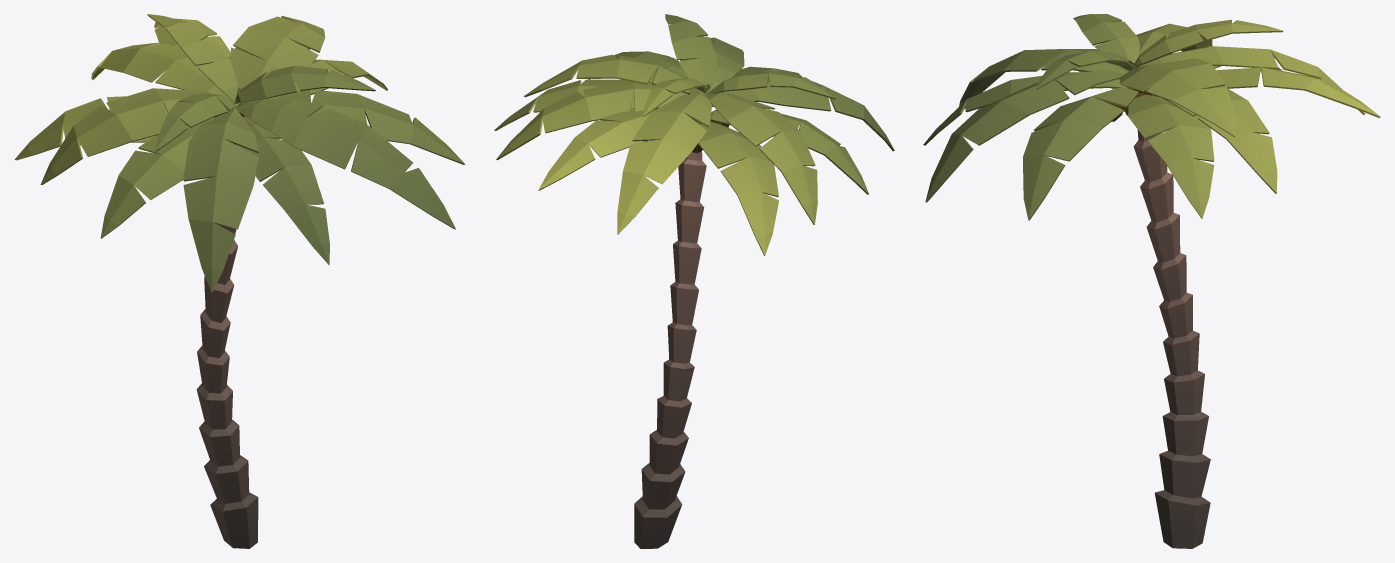
Rendered from Palm_01.fbx.
3 views of the same model, side by side, from view 1: azimuth 30°, elevation 25°; view 2: azimuth 150°, elevation 25°; view 3: azimuth 270°, elevation 25° (orthographic). The views are drawn at different scales.
Parts seen in each view (by area): view 1: Palm_01; view 2: Palm_01; view 3: Palm_01.
Part boxes in pixels (x1,y1,x2,y2): Palm_01: (14,14,465,548); Palm_01: (494,14,894,548); Palm_01: (923,14,1380,548).
Size of the model in its own units: 346 by 489 by 405.
